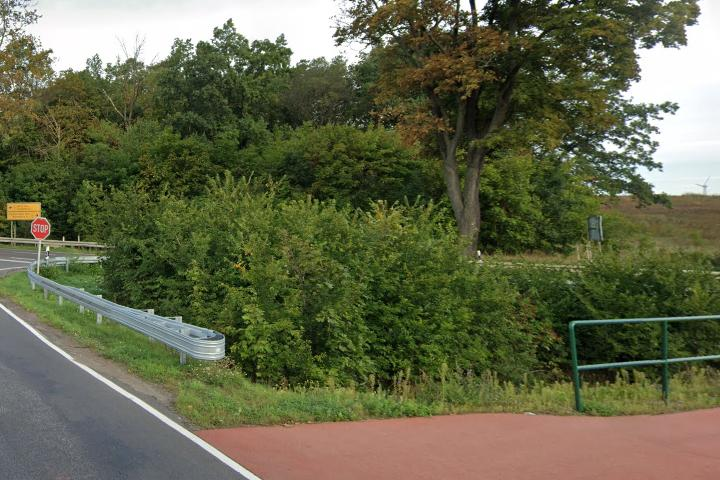traffic_sign: (30, 216, 51, 240)
